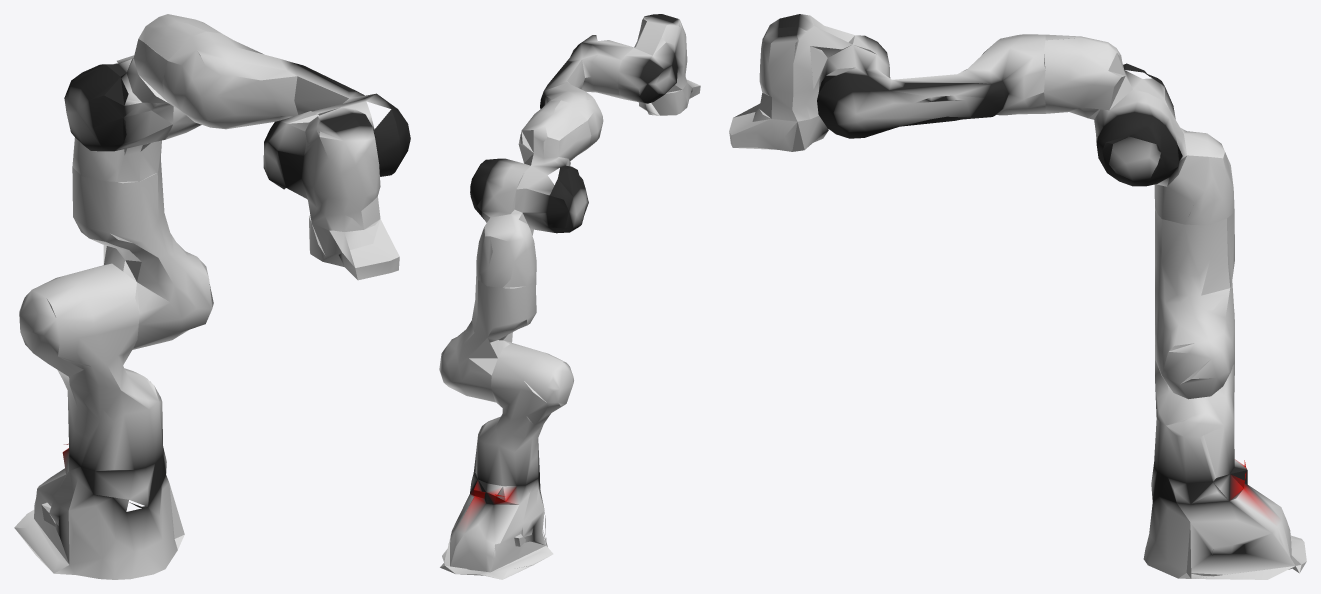
Rendered from franka-fr3.l2.glb.
The picture shows the model from 3 angles, left to right: view 1: azimuth 30°, elevation 25°; view 2: azimuth 150°, elevation 25°; view 3: azimuth 270°, elevation 25°; orthographic projection. The views are drawn at different scales.
Parts seen in each view (by area): view 1: franka-fr3__l2; view 2: franka-fr3__l2; view 3: franka-fr3__l2.
Boxes of the visible parts, bbox=[...] form: franka-fr3__l2: bbox=[14, 14, 410, 579]; franka-fr3__l2: bbox=[439, 14, 700, 579]; franka-fr3__l2: bbox=[729, 14, 1306, 579].
Bounding box in the file's own units: 0.2577 × 0.8111 × 0.7935.
